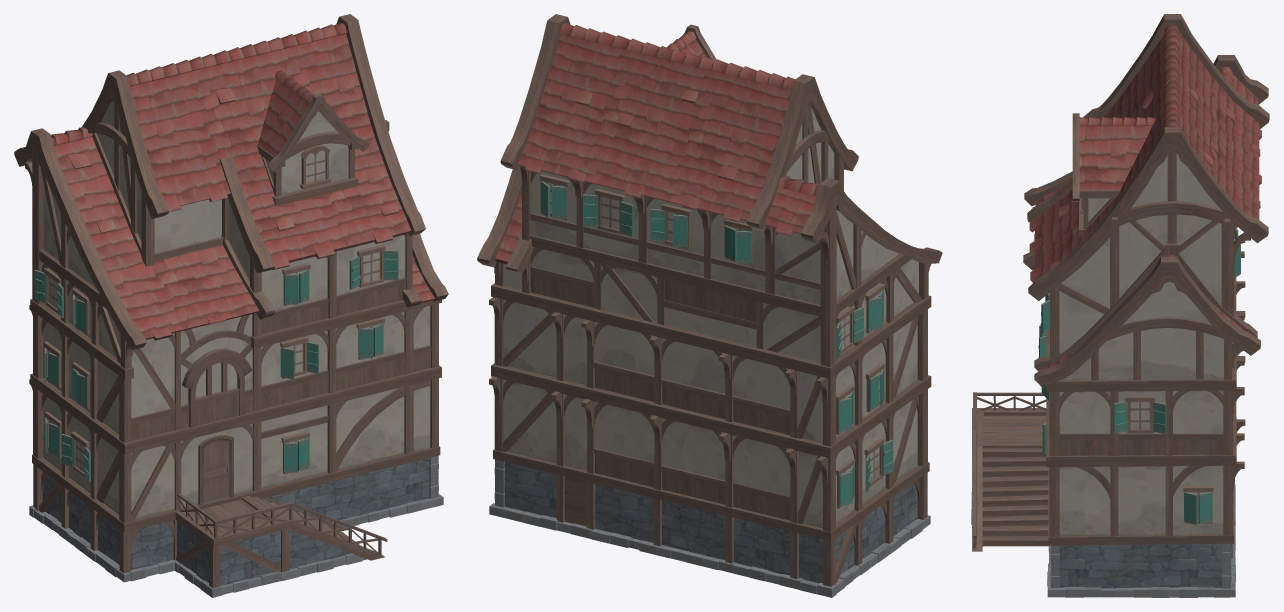
The model's file is Homeworld_Exterior_Md_Build_House_03_Lod0.fbx.
3 renders of one model, left to right at view 1: azimuth 30°, elevation 25°; view 2: azimuth 150°, elevation 25°; view 3: azimuth 270°, elevation 25°, orthographic. The views are drawn at different scales.
Visible parts, largest first — view 1: Area_MdBuild_House35_Lod0; view 2: Area_MdBuild_House35_Lod0; view 3: Area_MdBuild_House35_Lod0.
Part boxes in pixels (x1=…): Area_MdBuild_House35_Lod0: x1=14, y1=14, x2=448, y2=597; Area_MdBuild_House35_Lod0: x1=477, y1=14, x2=942, y2=597; Area_MdBuild_House35_Lod0: x1=971, y1=14, x2=1269, y2=597.
Size of what is drawn, in the model's own units: 12.64 by 16.67 by 9.94.
